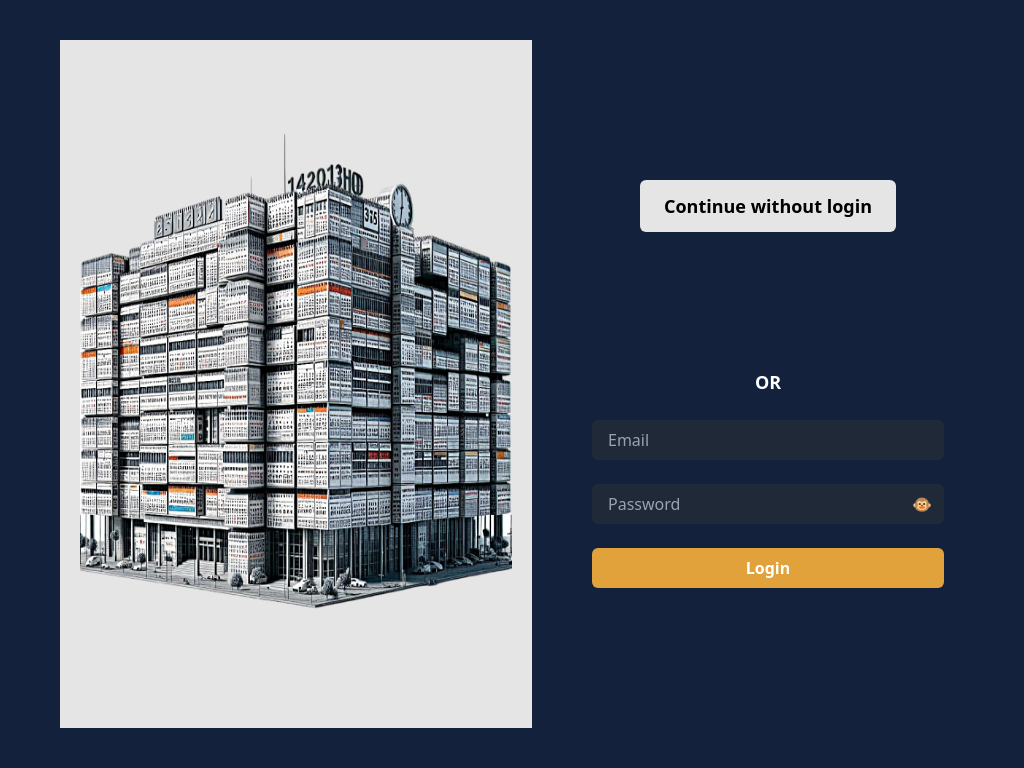
Scenario: Exams Page › Blocks USER from the /exams page
Click the button "Continue without login" at [768, 206], box [640,180,896,232]
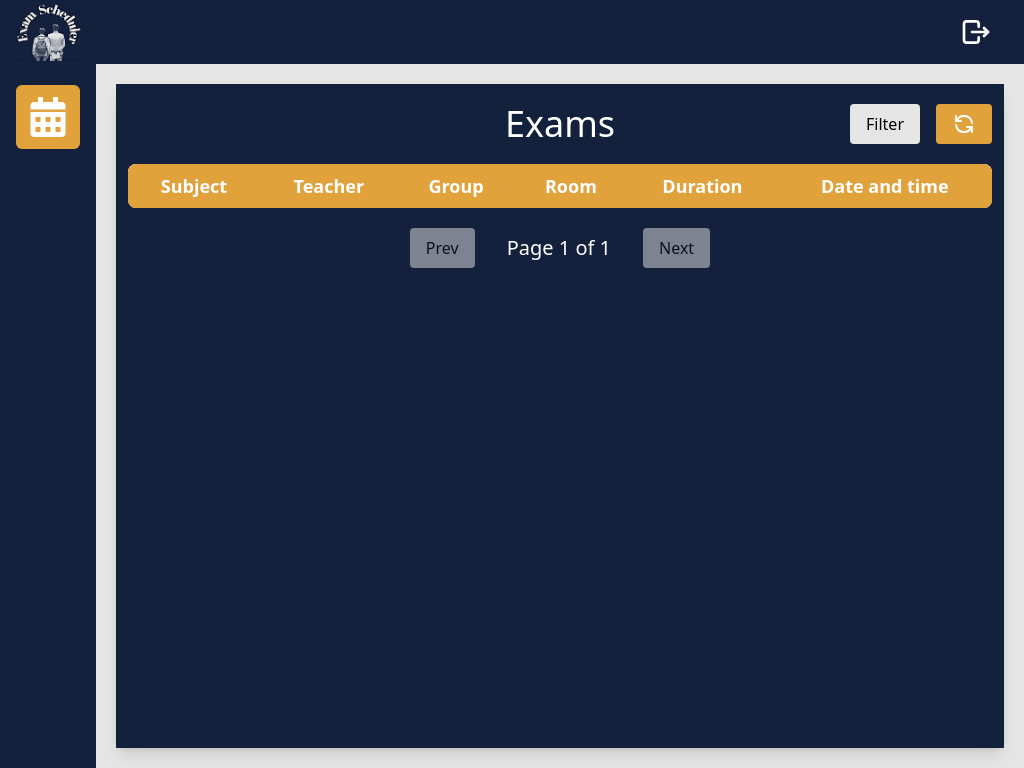
Open "/exams"
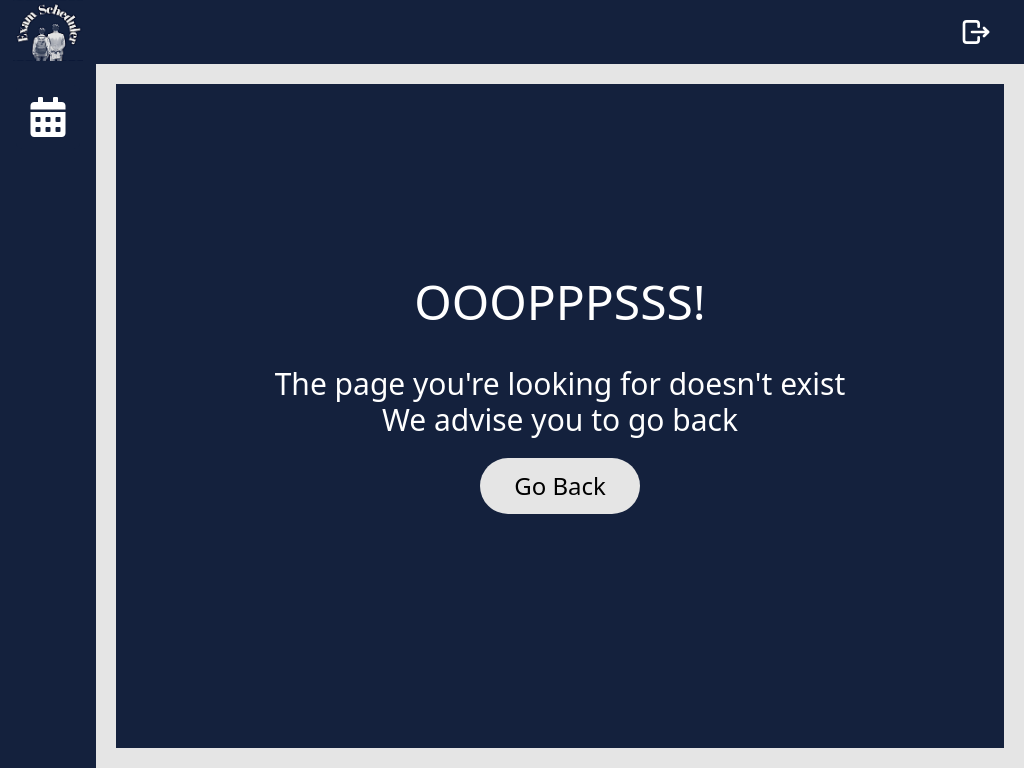
Expected: the heading "OOOPPPSSS!" is shown, [414,269,706,334]
